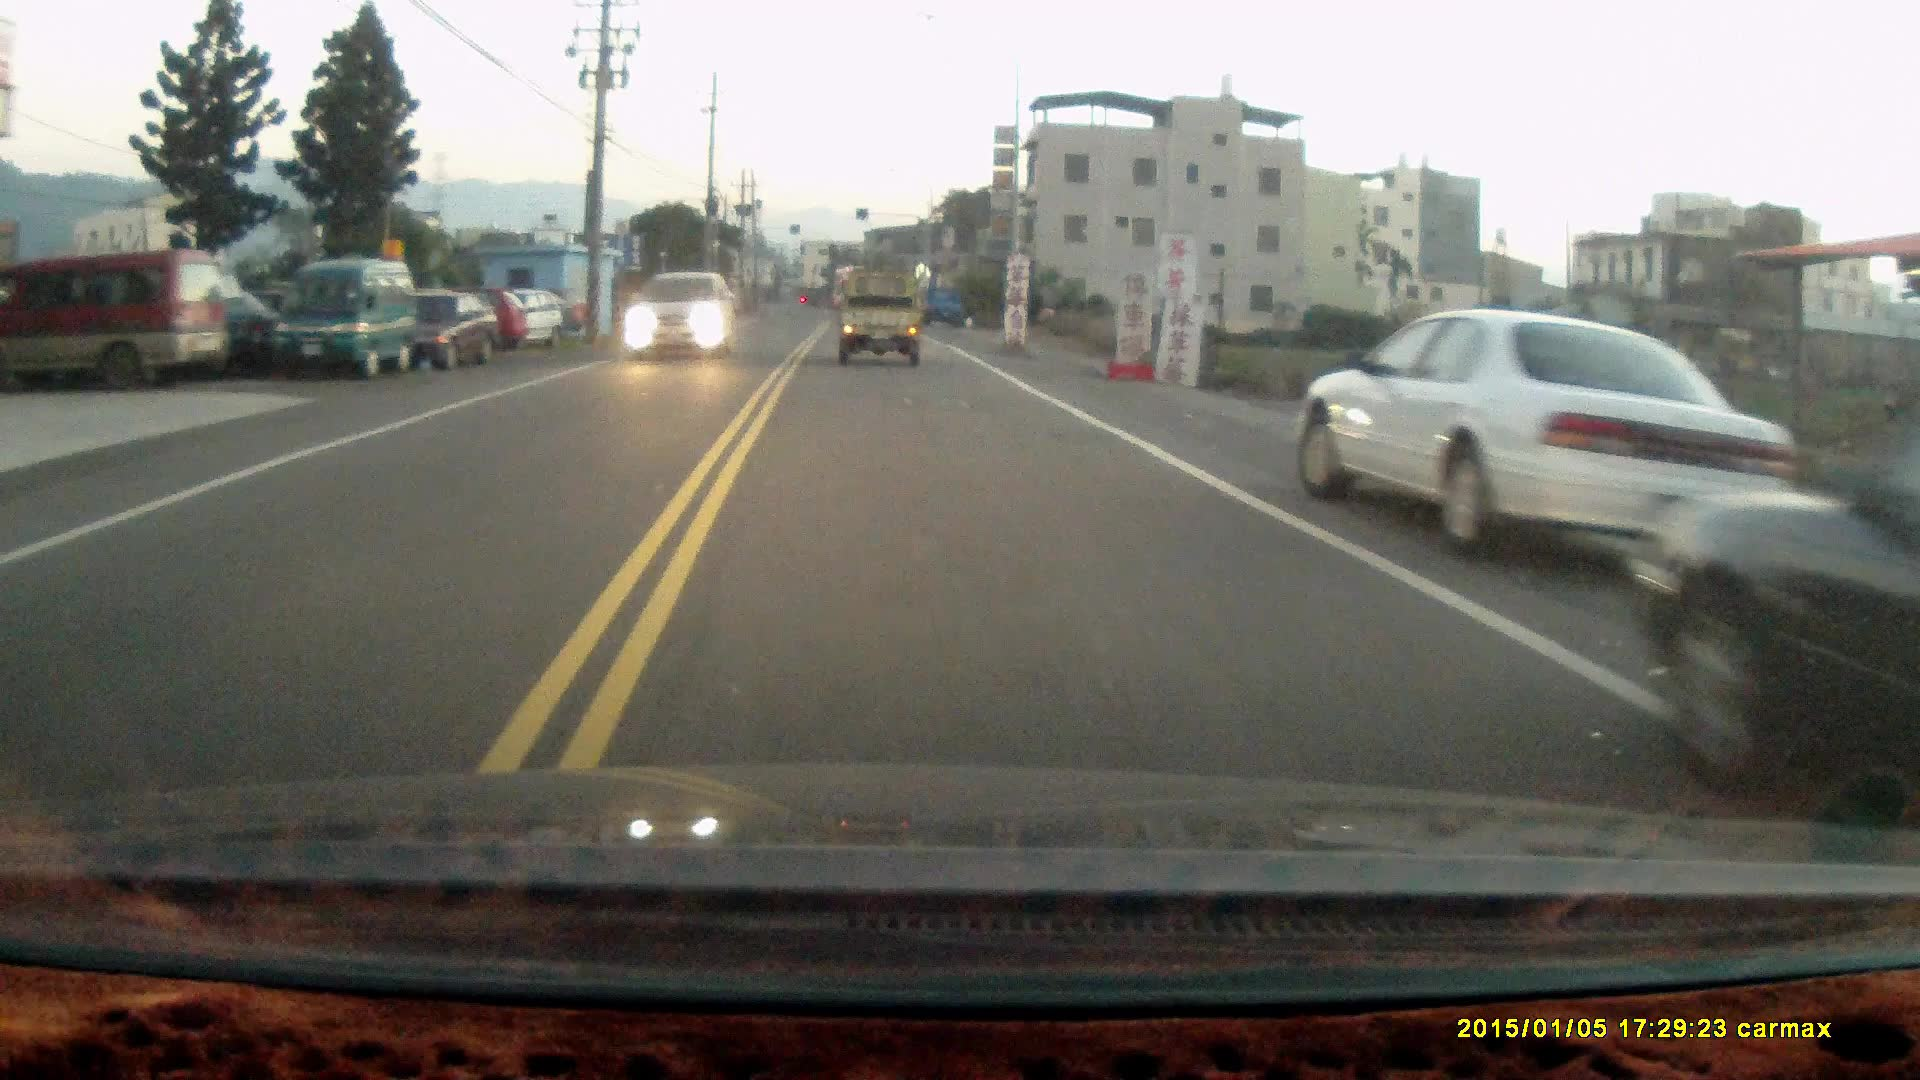vehicle: (1295, 313, 1803, 583), (1635, 425, 1919, 812), (1, 253, 239, 386), (270, 258, 419, 380), (622, 272, 741, 368), (837, 280, 924, 373), (423, 291, 502, 377), (492, 295, 560, 357)
